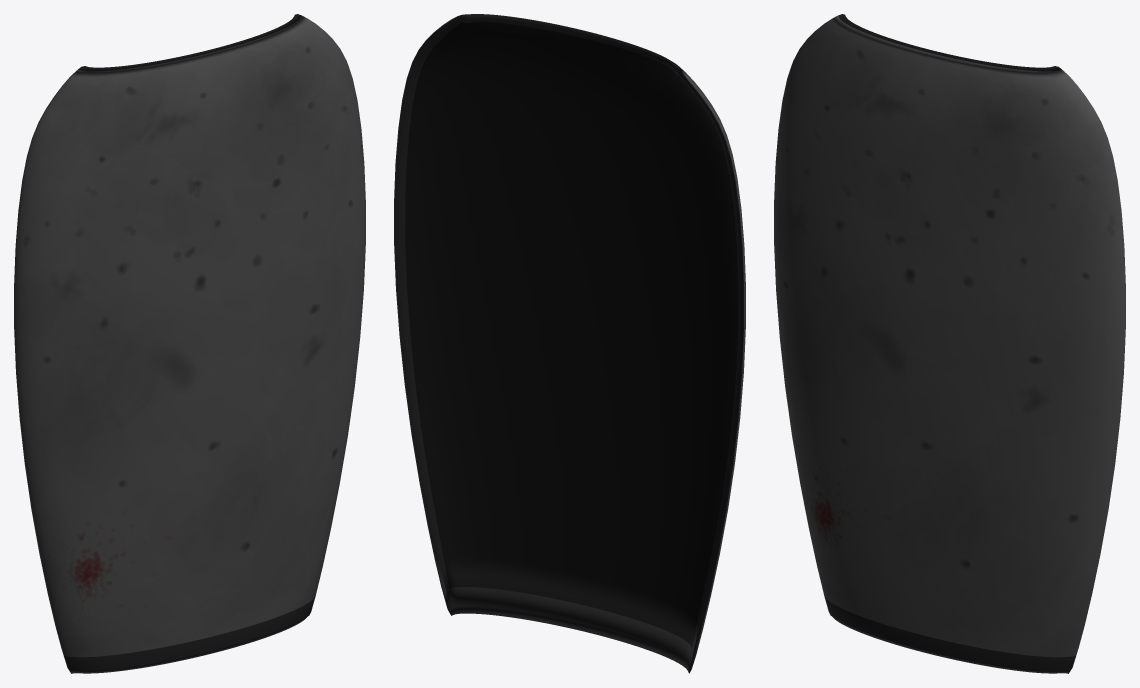
Rendered from shield.fbx.
3 views of the same model, side by side, from view 1: azimuth 30°, elevation 25°; view 2: azimuth 150°, elevation 25°; view 3: azimuth 330°, elevation 25° (orthographic).
Visible parts, largest first — view 1: Cylinder; view 2: Cylinder; view 3: Cylinder.
Boxes of the visible parts, bbox=[...] form: Cylinder: bbox=[14, 14, 365, 673]; Cylinder: bbox=[394, 14, 745, 673]; Cylinder: bbox=[774, 14, 1125, 673].
Bounding box in the file's own units: 2.17 × 3.57 × 0.2871.
Materials: 1 (1 with a texture image).
